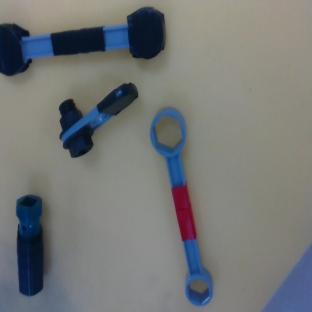part_1_bad: (50, 79, 151, 160)
part_2_bad: (15, 194, 45, 296)
part_3_bad: (0, 5, 169, 76)
part_3_good: (146, 105, 216, 309)
